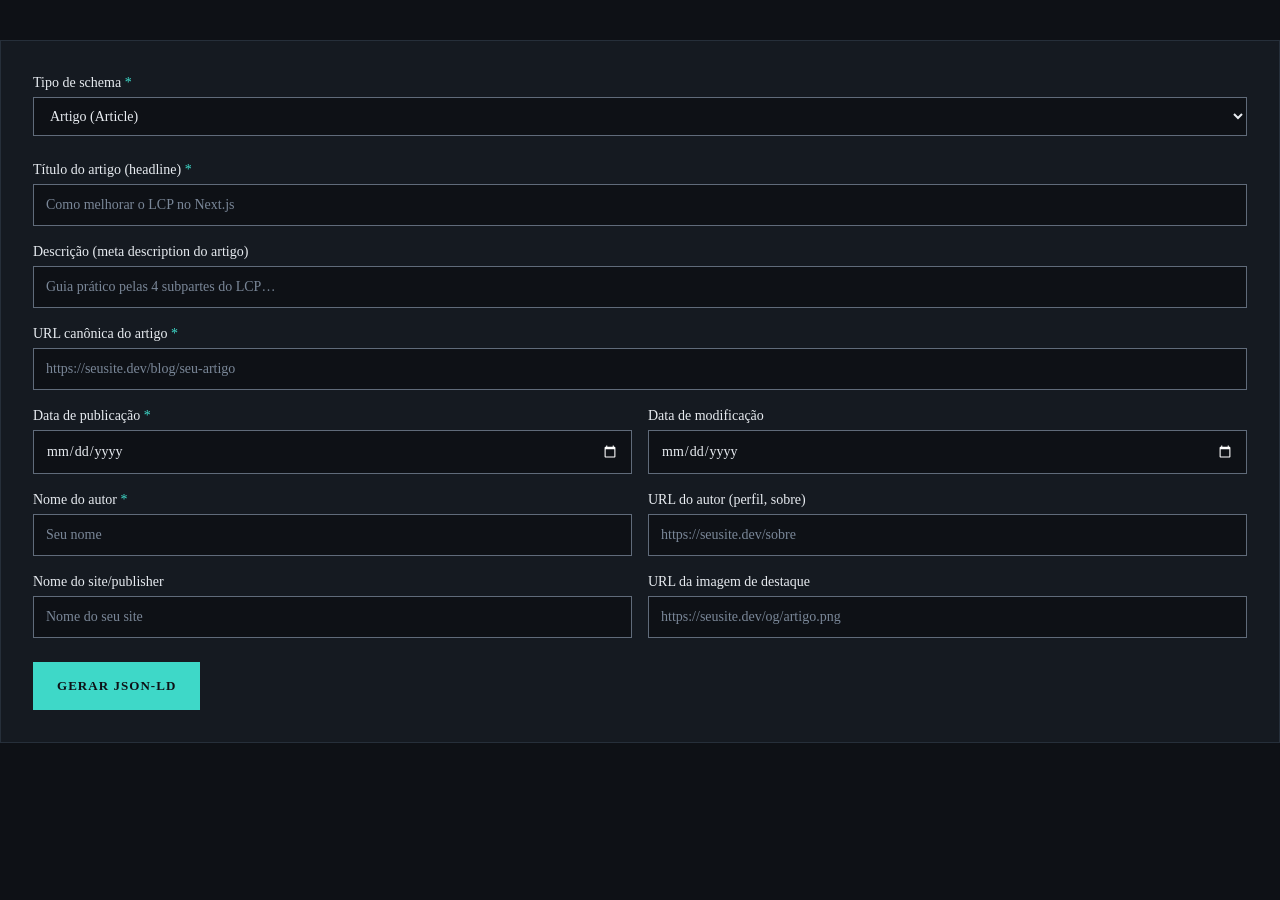
Test: JsonLdGenerator › lista os campos obrigatórios em um alerta e não gera nada
The width and height of the screenshot is (1280, 900).
Click the button "Gerar JSON-LD" at (117, 686), box [33,662,200,710]
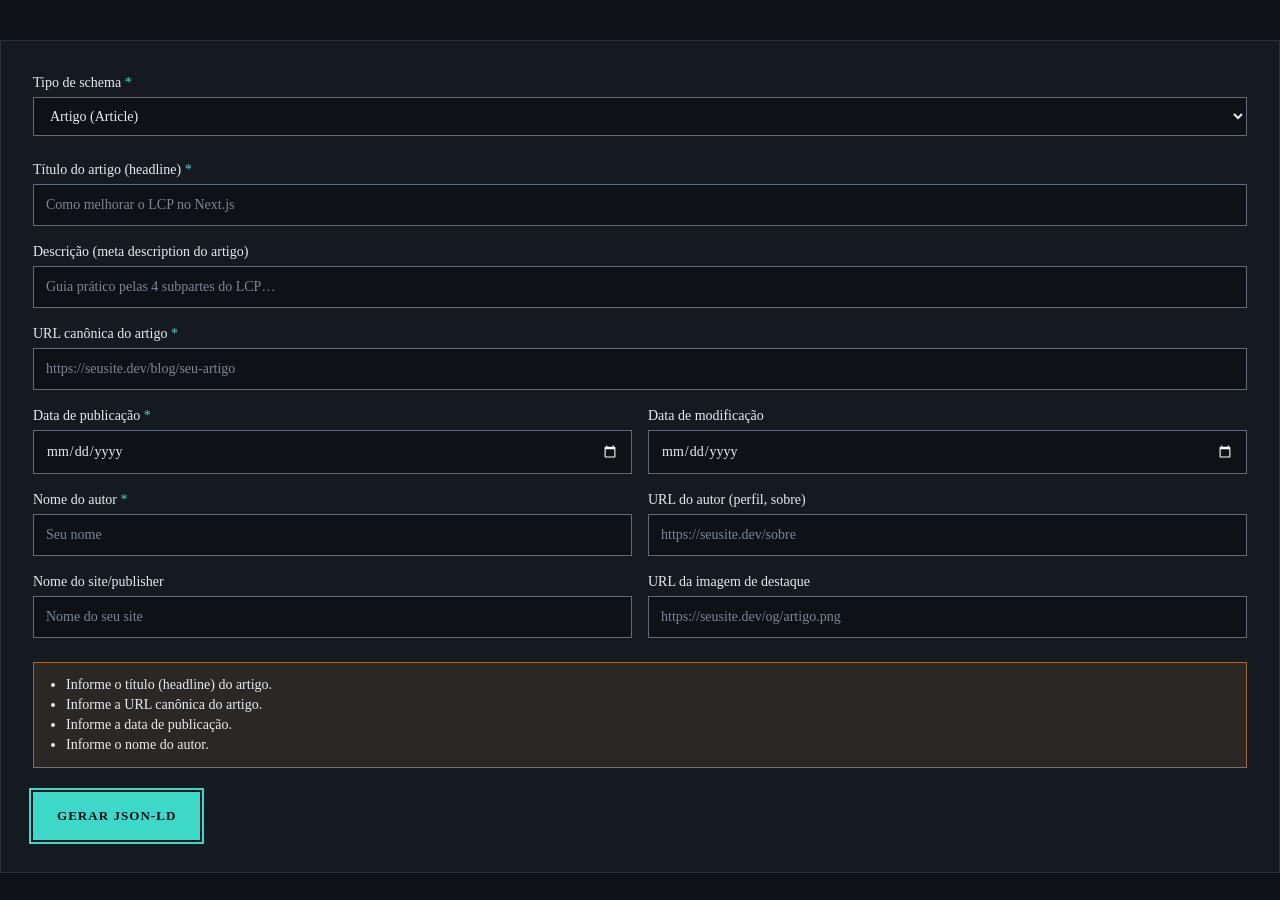
Expected: the number of list items is 4, [66,677,272,692]; [66,697,262,712]; [66,717,232,732]; [66,737,209,752]
